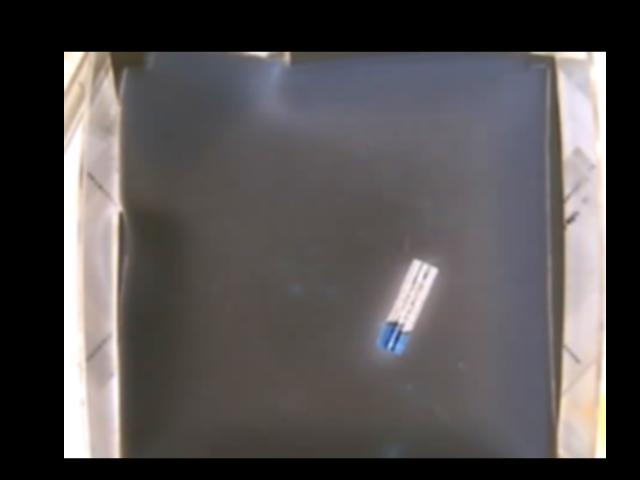Battery: (379, 256, 438, 355)
